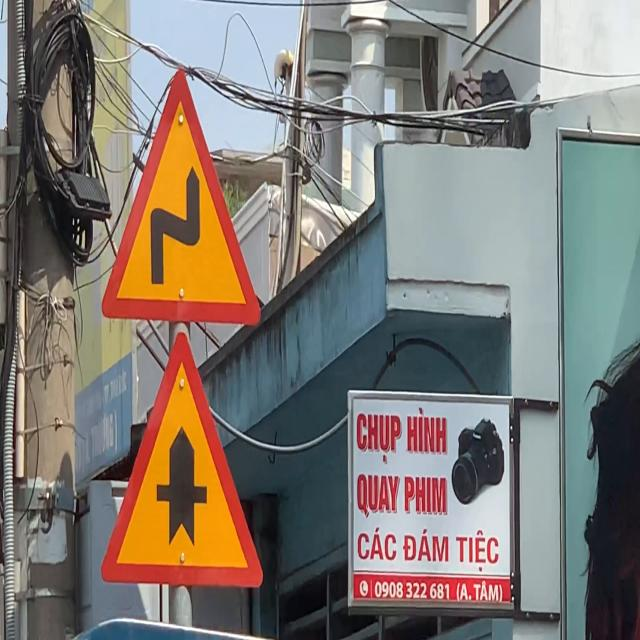Giao voi duong khong uu tien: (93, 325, 274, 595)
Nguy hiem: (97, 54, 276, 338)
